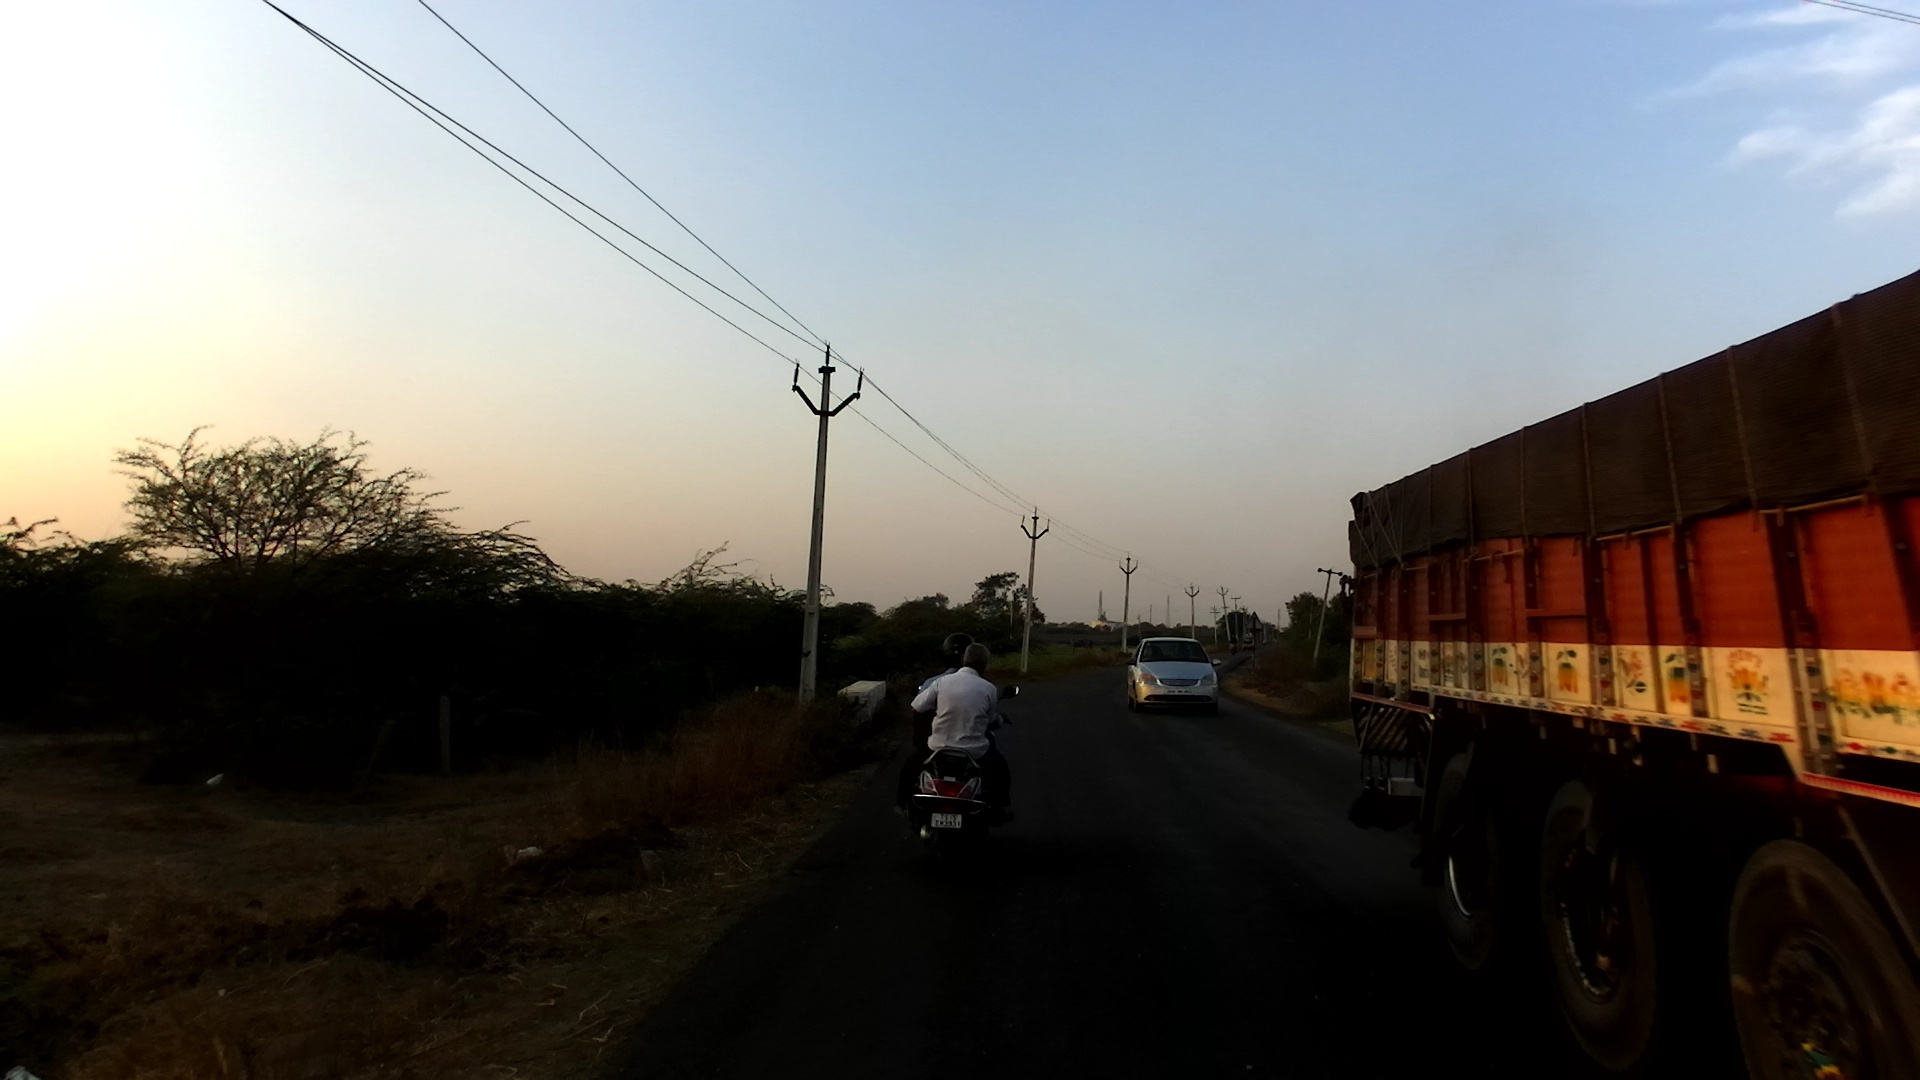car: (1124, 636, 1222, 717), (1244, 637, 1261, 651)
motorcycle: (900, 679, 1034, 881), (1227, 643, 1236, 656)
rider: (897, 638, 1011, 825), (912, 630, 1006, 765), (1227, 632, 1240, 651)
truck: (1345, 269, 1920, 1077)
